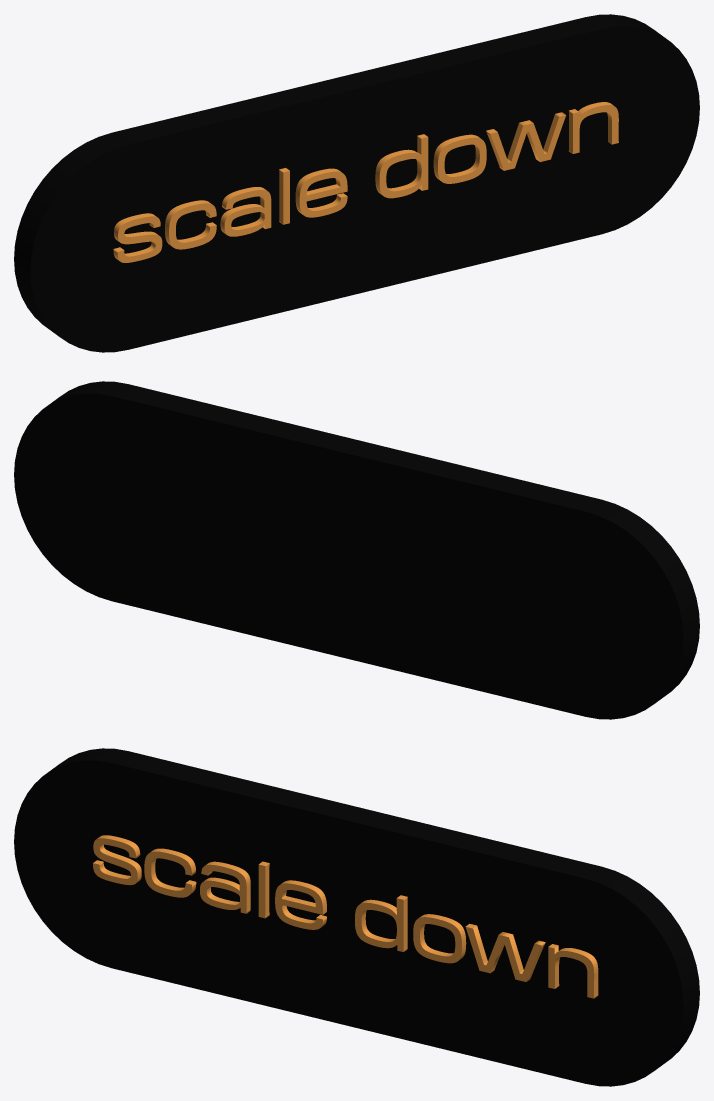
File: scale-down.glb
The picture shows the model from 3 angles, top to bottom: view 1: azimuth 30°, elevation 25°; view 2: azimuth 150°, elevation 25°; view 3: azimuth 330°, elevation 25°; orthographic projection.
Parts seen in each view (by area): view 1: Curve.001; view 2: Curve.001; view 3: Curve.001.
Part boxes in pixels (left/top/right/bottom): Curve.001: left=14, top=14, right=699, bottom=352; Curve.001: left=14, top=381, right=699, bottom=719; Curve.001: left=14, top=748, right=699, bottom=1086.
Size of the model in its own units: 0.2822 by 0.0826 by 0.015.
